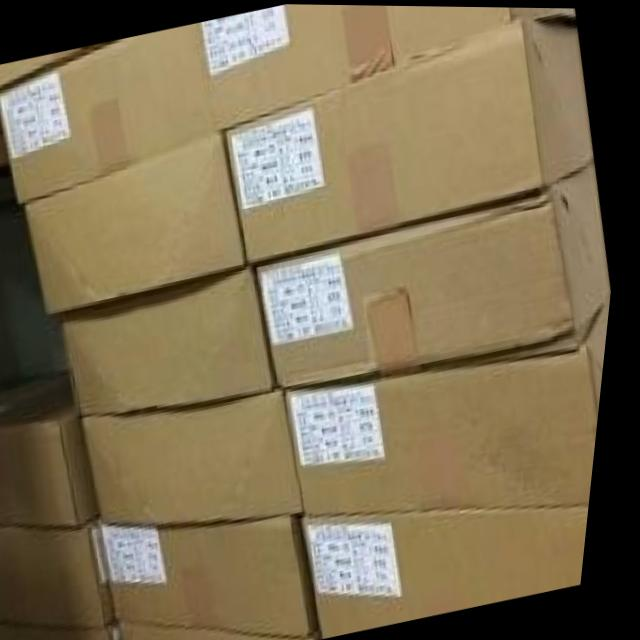box: (0, 3, 574, 202), (227, 15, 595, 264), (258, 159, 615, 386), (291, 296, 616, 516), (30, 133, 252, 319), (314, 499, 600, 634), (71, 264, 282, 417), (87, 387, 313, 523), (116, 517, 328, 636), (0, 367, 112, 529), (0, 515, 130, 625), (0, 41, 114, 89), (132, 623, 323, 640), (10, 622, 135, 640)
